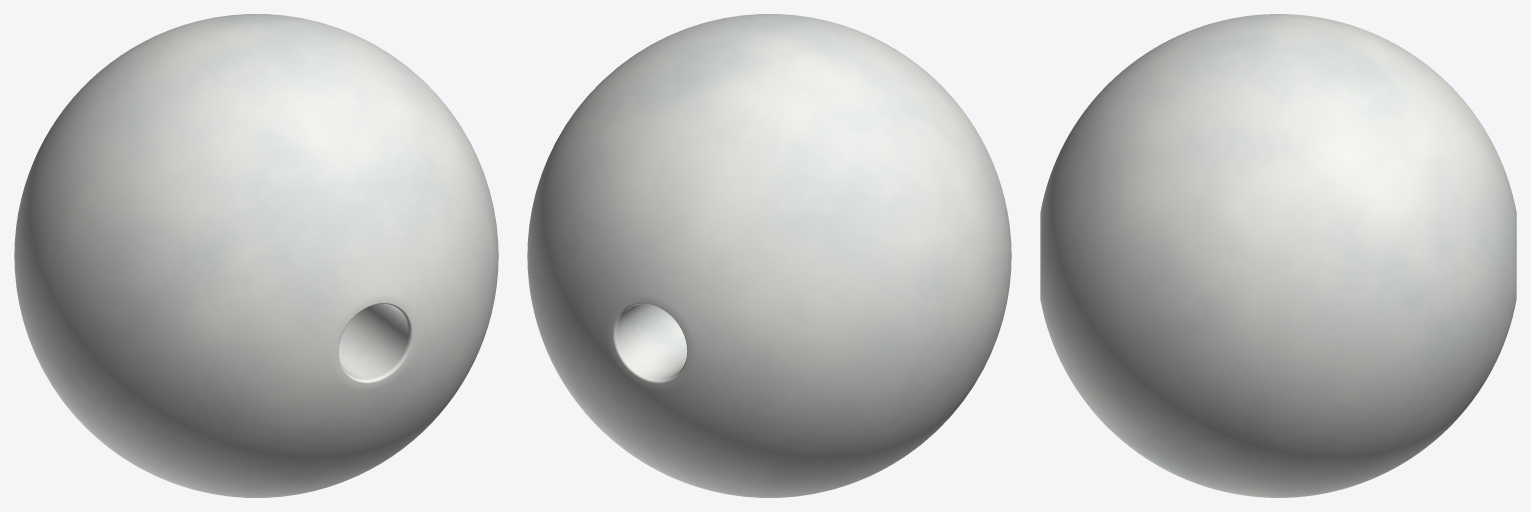
Rendered from milky-quartz-6mm.glb.
3 views of the same model, side by side, from view 1: azimuth 30°, elevation 25°; view 2: azimuth 150°, elevation 25°; view 3: azimuth 270°, elevation 25° (orthographic).
Parts seen in each view (by area): view 1: milky-quartz.001; view 2: milky-quartz.001; view 3: milky-quartz.001.
Boxes of the visible parts, left/top/right/bottom form: milky-quartz.001: left=14, top=14, right=498, bottom=497; milky-quartz.001: left=527, top=14, right=1011, bottom=497; milky-quartz.001: left=1040, top=14, right=1516, bottom=497.
Bounding box in the file's own units: 0.006 × 0.006 × 0.0059.
Materials: 2 (1 with a texture image).
